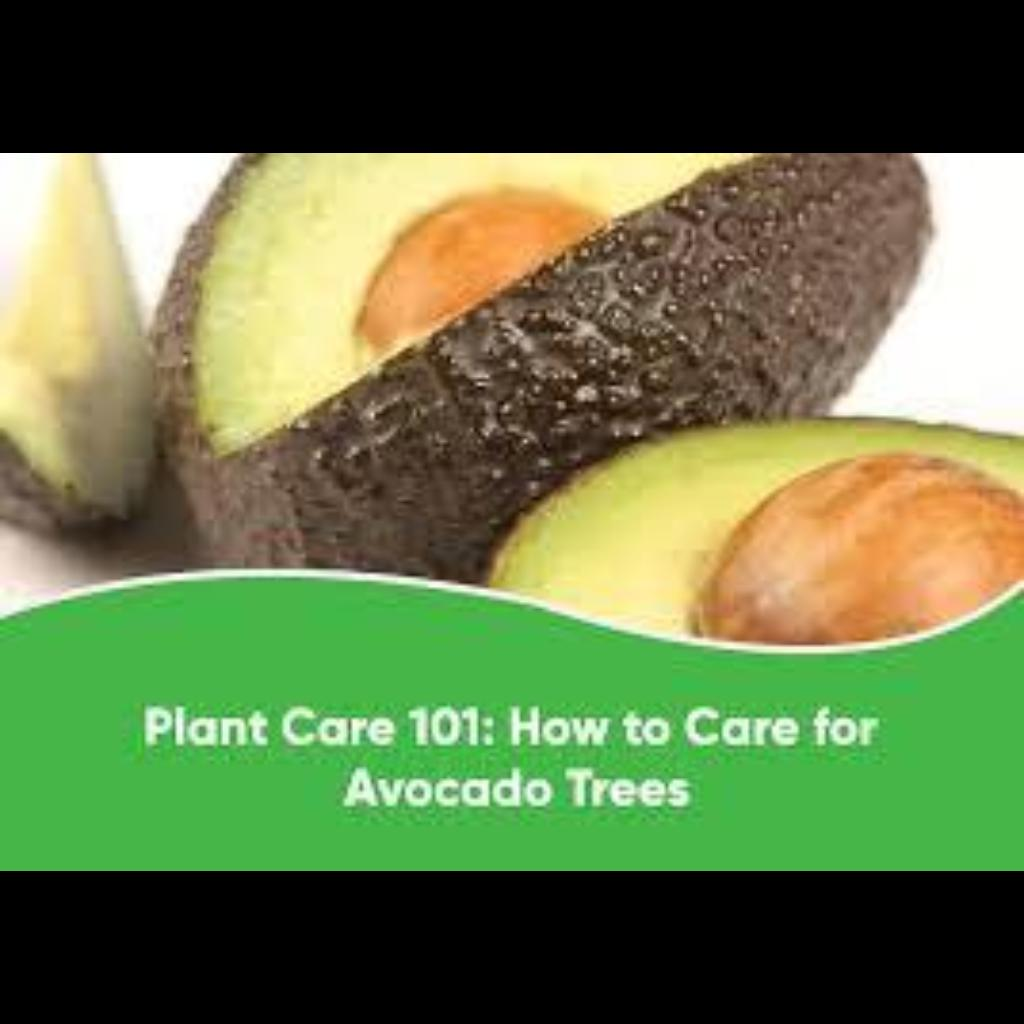Anthracnose: (237, 260, 791, 500)
